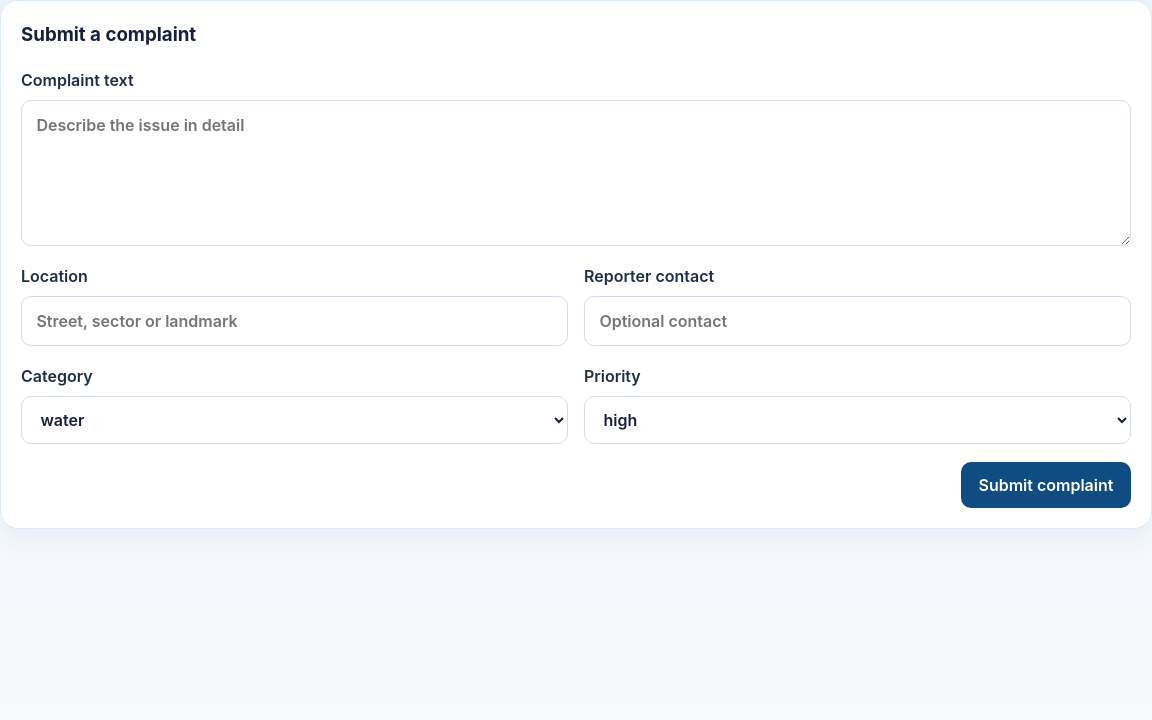
Test: SubmitPage › displays the success result after submission
Type "Transformer near the market is sparking and power is out in the surrounding homes." into the text box labelled "Complaint text".
click(576, 173); type("Transformer near the market is sparking and power is out in the surrounding homes.")  # box [21,100,1131,246]
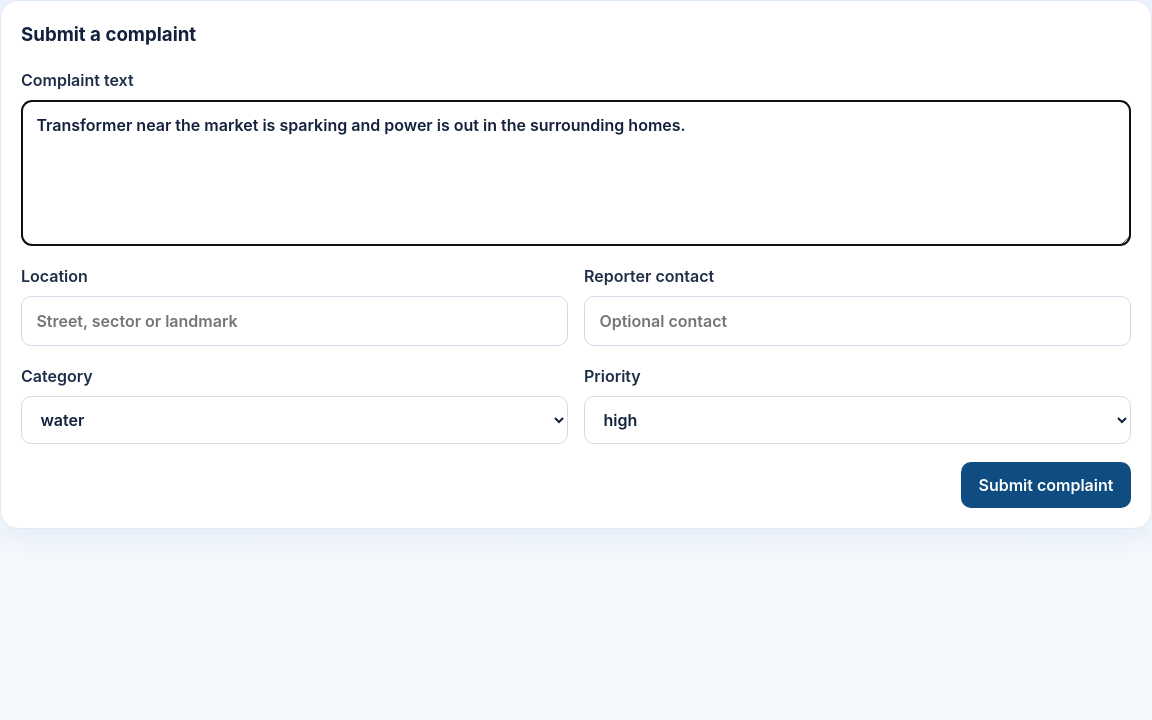
Type "Market Road, Block B" into the field labelled "Location".
click(294, 321); type("Market Road, Block B")  # box [21,296,568,346]
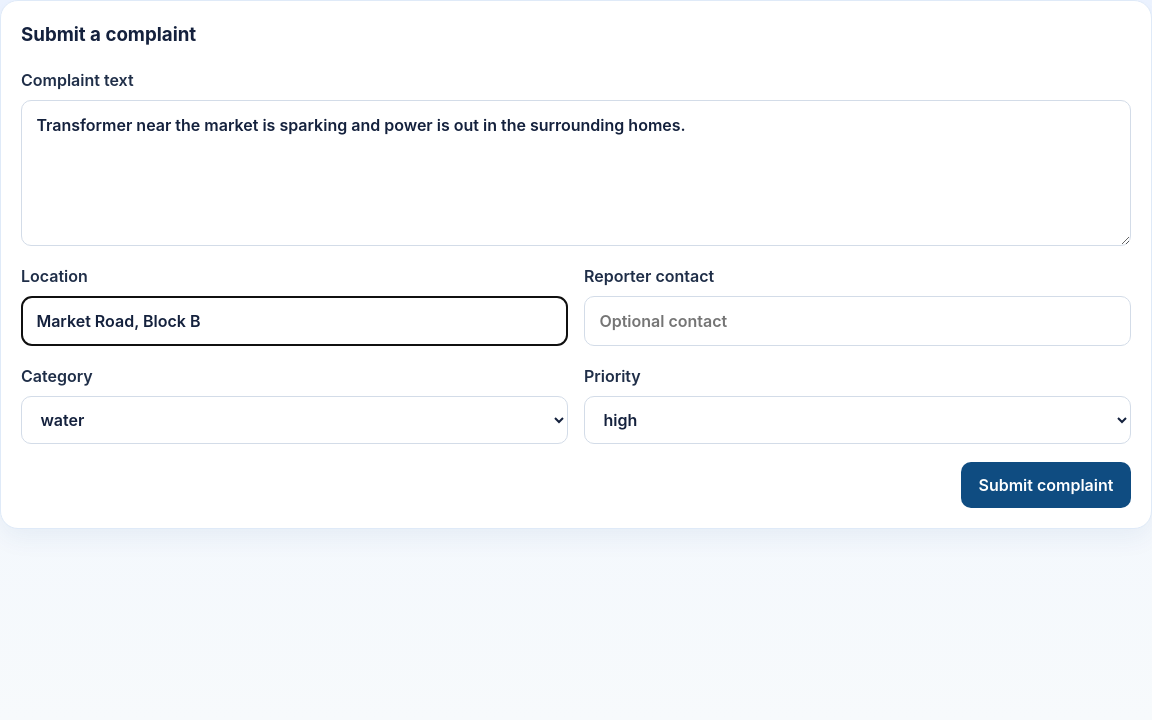
Click the button "Submit complaint".
click(1046, 485)  # box [961,462,1131,508]
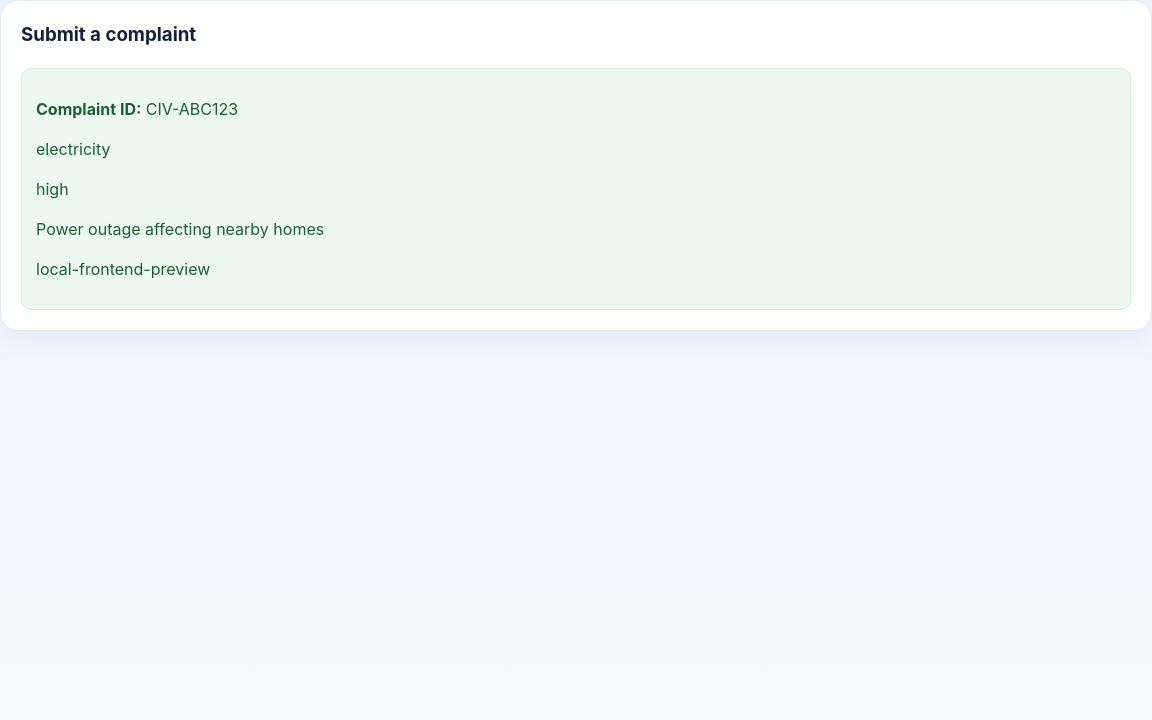
Check: the text "Complaint ID:" is shown, box [36,99,141,119]
Check: the text "CIV-ABC123" is shown, box [146,99,238,119]
Check: the text "electricity" is shown, box [36,139,110,159]
